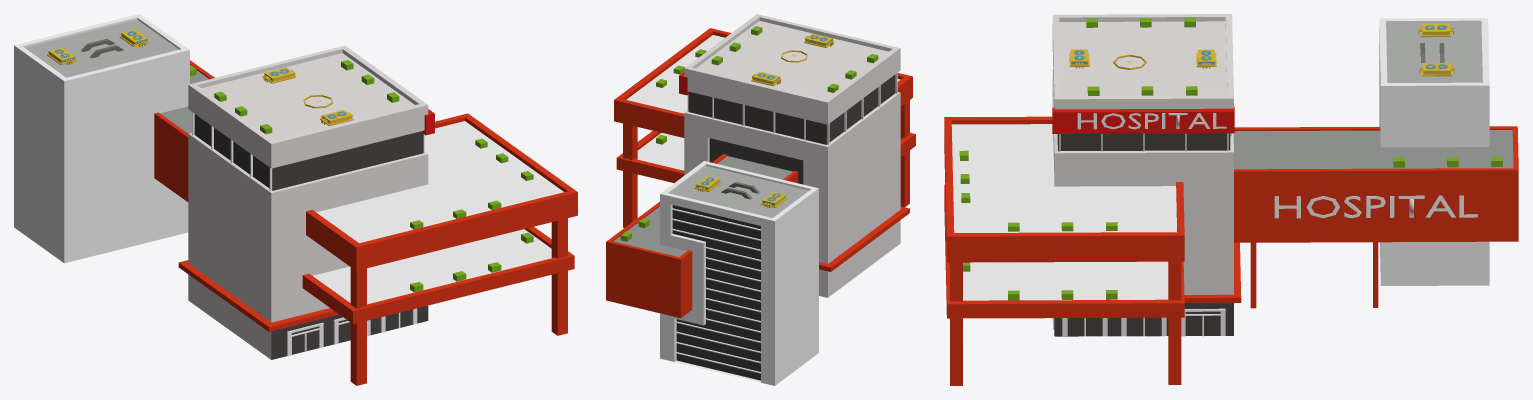
The model's file is healthcare.glb.
3 renders of one model, left to right at view 1: azimuth 30°, elevation 25°; view 2: azimuth 150°, elevation 25°; view 3: azimuth 270°, elevation 25°, orthographic. The views are drawn at different scales.
Parts seen in each view (by area): view 1: Cube.262; view 2: Cube.262; view 3: Cube.262.
Part boxes in pixels (box(x1,y1,x2,y2)): Cube.262: box(14, 14, 577, 385); Cube.262: box(606, 14, 915, 385); Cube.262: box(944, 14, 1518, 385).
Size of the model in its own units: 575 by 376 by 820.
1 material, 1 textured.
